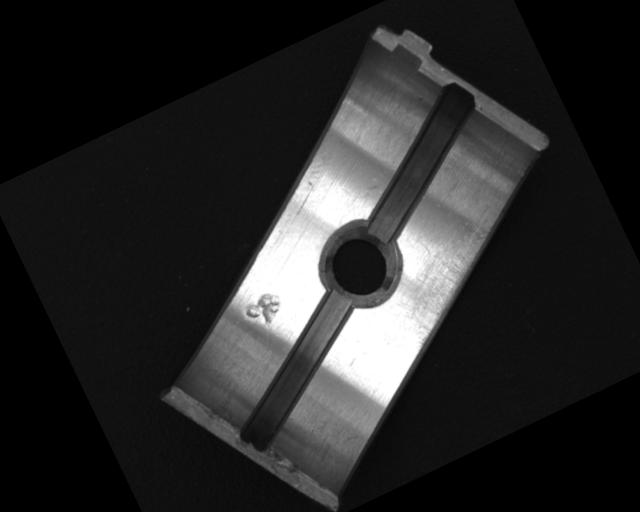bruise: (239, 286, 291, 335)
gap: (202, 285, 391, 456), (328, 80, 515, 248)
hole: (303, 211, 413, 321)
scratch: (375, 211, 530, 353)
